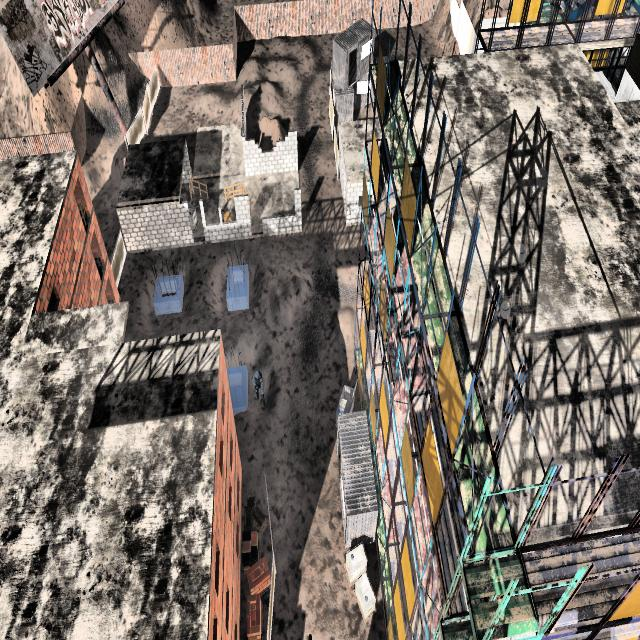bad: (252, 358, 268, 410)
